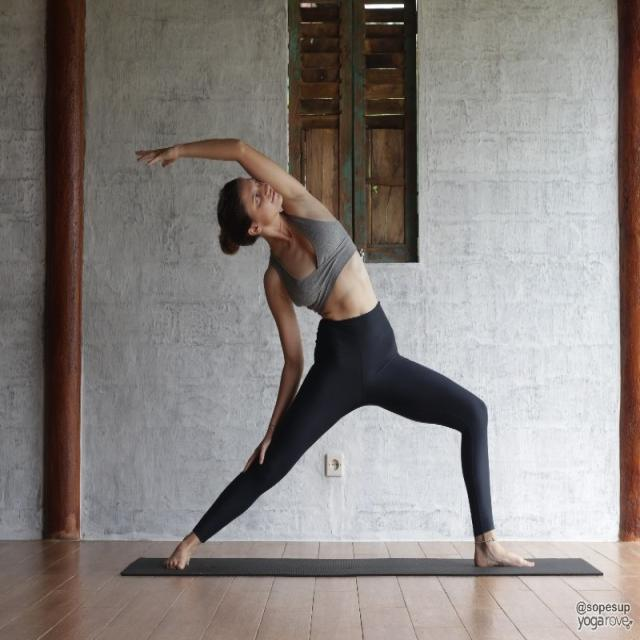adult: (137, 137, 538, 569)
